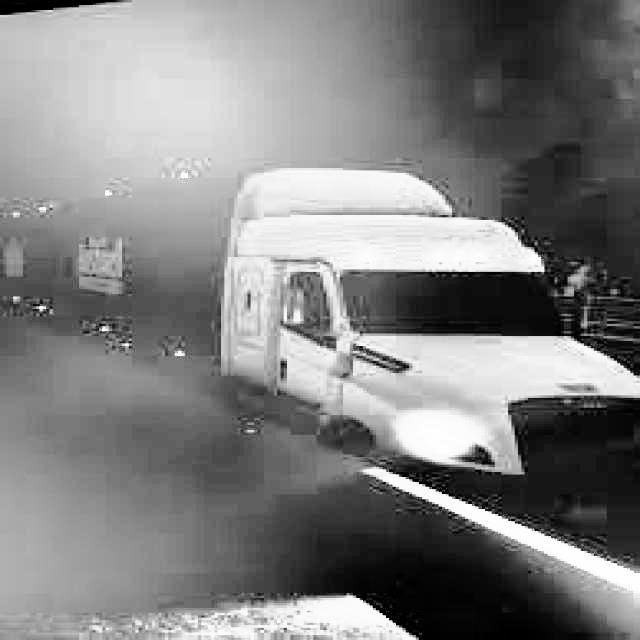Truck: (214, 163, 637, 492)
